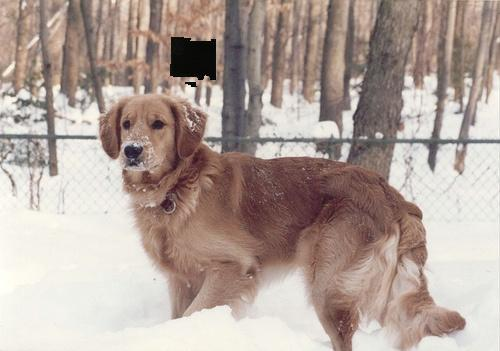tampered: (171, 38, 216, 87)
